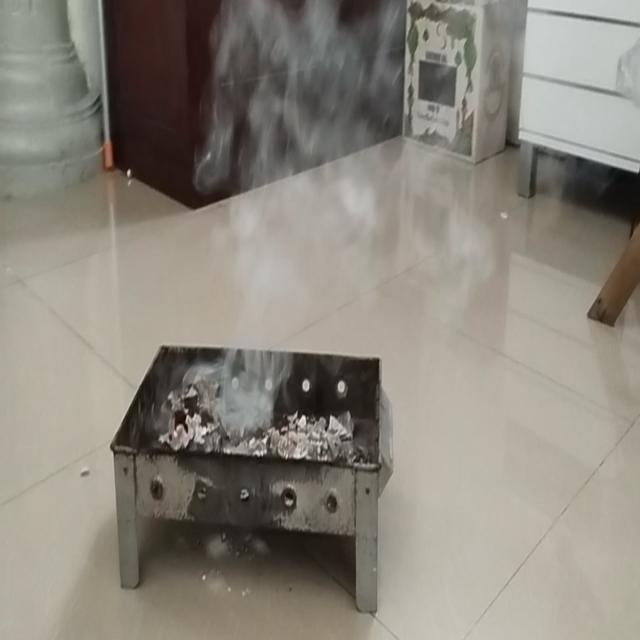smoke: (213, 32, 401, 392)
